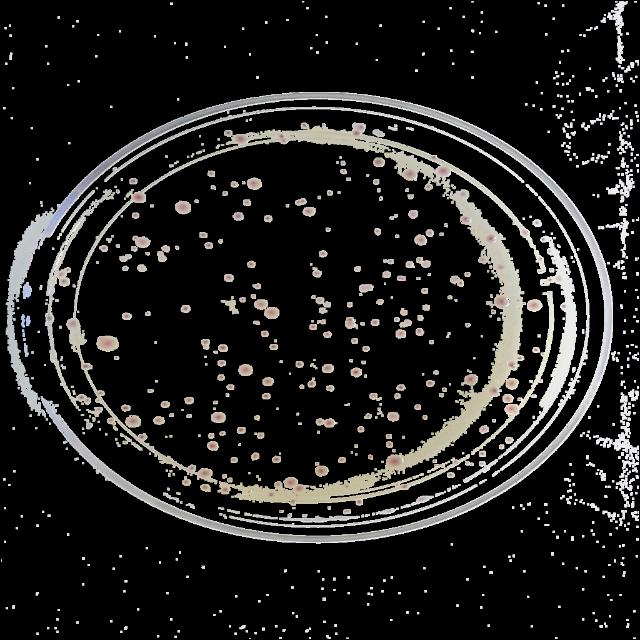colony: (94, 334, 120, 354), (172, 199, 192, 217), (399, 166, 418, 182), (482, 230, 500, 246), (122, 414, 142, 428), (384, 454, 404, 468), (134, 234, 152, 248), (434, 165, 452, 178), (66, 316, 82, 330), (494, 296, 510, 310), (264, 307, 280, 321), (238, 364, 254, 378), (130, 192, 148, 204), (246, 178, 262, 190), (210, 412, 226, 424), (197, 467, 213, 479), (504, 404, 520, 416), (504, 360, 520, 372), (527, 300, 543, 312), (284, 476, 298, 489), (136, 262, 150, 274), (231, 211, 245, 223), (58, 276, 72, 288), (120, 310, 134, 322), (180, 302, 192, 316), (505, 378, 519, 390), (464, 374, 478, 386), (518, 228, 532, 240), (372, 156, 386, 168), (302, 206, 316, 218), (254, 299, 268, 311), (234, 134, 248, 146), (393, 328, 407, 339), (222, 271, 234, 283), (245, 258, 257, 270), (262, 213, 274, 225), (44, 312, 56, 324), (324, 418, 336, 430), (415, 234, 427, 246), (202, 241, 216, 251), (54, 269, 68, 279), (152, 416, 166, 426), (386, 412, 400, 422), (198, 229, 210, 239), (242, 198, 254, 208), (217, 343, 229, 353), (216, 358, 228, 368), (136, 432, 148, 442), (294, 484, 306, 494), (316, 466, 328, 476), (502, 394, 514, 404), (488, 386, 500, 396), (477, 255, 489, 265), (350, 368, 362, 378), (322, 364, 334, 374), (262, 377, 274, 387), (460, 215, 472, 225), (356, 122, 368, 132), (351, 128, 363, 138), (158, 400, 172, 408), (360, 284, 374, 292), (85, 421, 95, 432), (362, 412, 373, 422), (458, 189, 469, 199), (128, 244, 140, 253), (120, 403, 132, 412), (75, 393, 87, 402), (207, 442, 219, 451), (99, 242, 109, 252), (120, 264, 130, 274), (229, 179, 239, 189), (158, 254, 168, 264), (200, 482, 210, 492), (554, 274, 564, 284), (496, 262, 506, 272), (382, 270, 392, 280), (315, 417, 325, 427), (370, 318, 380, 328), (345, 319, 355, 329), (424, 182, 434, 192), (408, 209, 418, 219), (200, 338, 212, 346), (326, 383, 336, 392), (421, 260, 432, 268), (236, 426, 247, 434), (128, 178, 138, 186), (130, 232, 140, 240), (207, 170, 217, 178), (220, 190, 230, 198), (64, 265, 72, 275), (80, 362, 88, 372), (162, 244, 170, 254), (216, 373, 226, 381), (185, 396, 195, 404), (96, 389, 106, 397), (83, 398, 93, 406), (182, 478, 192, 486), (220, 486, 230, 494), (271, 456, 281, 464), (504, 437, 514, 445), (479, 426, 489, 434), (515, 354, 525, 362), (532, 219, 542, 227), (450, 276, 460, 284), (396, 275, 406, 283), (426, 380, 436, 388), (396, 383, 406, 391), (368, 392, 378, 400), (384, 432, 394, 440), (386, 440, 394, 450), (356, 426, 366, 434), (375, 298, 385, 306), (307, 380, 317, 388), (262, 392, 272, 400), (316, 296, 324, 306), (300, 122, 310, 130), (105, 418, 117, 424), (399, 482, 408, 490), (416, 328, 424, 337), (404, 318, 412, 327), (278, 139, 290, 145), (226, 384, 236, 391), (269, 344, 279, 351), (132, 212, 140, 220), (114, 242, 122, 250), (209, 184, 217, 192), (144, 310, 152, 318), (188, 464, 196, 472), (251, 453, 259, 461), (274, 481, 282, 489), (356, 498, 364, 506), (338, 456, 346, 464), (447, 471, 455, 479), (478, 450, 486, 458), (532, 346, 540, 354), (546, 248, 554, 256), (416, 256, 424, 264), (406, 261, 414, 269), (387, 257, 395, 265), (417, 315, 425, 323), (414, 403, 422, 411), (394, 392, 402, 400), (362, 346, 370, 354), (257, 432, 265, 440), (296, 361, 304, 369), (374, 228, 382, 236), (426, 229, 434, 237), (430, 154, 438, 162), (373, 178, 381, 186), (326, 188, 334, 196), (319, 249, 327, 257), (314, 270, 322, 278), (254, 282, 262, 290), (324, 300, 332, 308), (261, 330, 269, 338), (224, 130, 232, 138), (207, 432, 215, 440), (323, 332, 333, 338), (318, 308, 328, 314), (218, 431, 228, 437), (366, 454, 374, 461), (253, 414, 260, 422), (309, 324, 317, 331), (112, 356, 121, 362), (399, 310, 408, 316), (353, 266, 362, 272), (338, 168, 347, 174), (156, 250, 164, 256), (96, 405, 102, 413), (230, 457, 238, 463), (267, 492, 275, 498), (289, 499, 297, 505), (343, 509, 351, 515), (478, 461, 486, 467), (560, 303, 568, 309), (548, 268, 556, 274), (539, 237, 547, 243), (464, 272, 472, 278), (457, 279, 463, 287), (422, 304, 430, 310), (428, 340, 436, 346), (464, 322, 472, 328), (351, 338, 359, 344), (347, 316, 355, 322), (346, 301, 354, 307), (378, 196, 384, 204), (340, 160, 348, 166), (300, 198, 308, 204), (294, 201, 302, 207), (250, 293, 258, 299), (252, 320, 260, 326), (173, 245, 180, 251), (193, 199, 200, 205), (95, 397, 102, 403), (168, 412, 175, 418), (498, 444, 504, 451), (538, 255, 544, 262), (362, 359, 368, 366), (354, 443, 361, 449), (276, 134, 286, 138), (218, 238, 224, 244), (240, 180, 246, 186), (88, 364, 94, 370), (148, 388, 154, 394), (452, 459, 458, 465), (517, 397, 523, 403), (528, 378, 534, 384), (538, 378, 544, 384), (540, 352, 546, 358), (422, 288, 428, 294), (491, 310, 497, 316), (433, 370, 439, 376), (438, 393, 444, 399), (422, 415, 428, 421), (348, 358, 354, 364), (394, 316, 400, 322), (408, 194, 414, 200), (346, 176, 352, 182), (316, 195, 322, 201), (240, 297, 246, 303), (320, 319, 326, 325), (464, 460, 470, 466), (213, 399, 219, 405), (224, 392, 230, 398), (123, 440, 129, 446), (245, 490, 253, 494), (490, 418, 498, 422), (530, 394, 538, 398), (548, 276, 552, 284), (551, 260, 559, 264), (392, 214, 400, 218), (185, 414, 192, 418), (222, 473, 226, 479), (227, 478, 233, 482), (278, 510, 284, 514), (288, 512, 292, 518), (302, 514, 308, 518), (314, 462, 320, 466), (344, 485, 350, 489), (396, 482, 400, 488), (448, 295, 452, 301), (442, 388, 448, 392), (401, 434, 405, 440), (392, 447, 396, 453), (364, 374, 368, 380), (360, 322, 366, 326), (300, 384, 304, 390), (444, 222, 448, 228), (395, 234, 401, 238), (404, 188, 410, 192), (325, 228, 331, 232), (312, 294, 316, 300), (321, 122, 327, 126), (432, 459, 438, 463), (434, 464, 440, 468), (470, 462, 474, 468), (328, 506, 332, 510), (537, 334, 541, 338), (440, 232, 444, 236), (390, 216, 394, 220), (286, 204, 290, 208), (316, 320, 320, 324), (440, 464, 444, 468), (116, 190, 120, 194), (416, 278, 420, 280), (427, 274, 431, 276), (213, 408, 217, 410)
